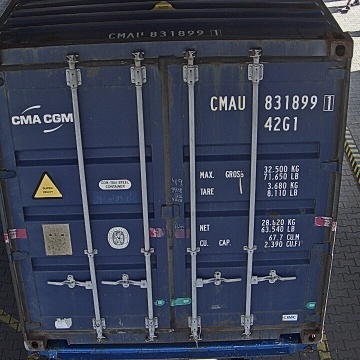serial_id: (210, 95, 334, 110)
